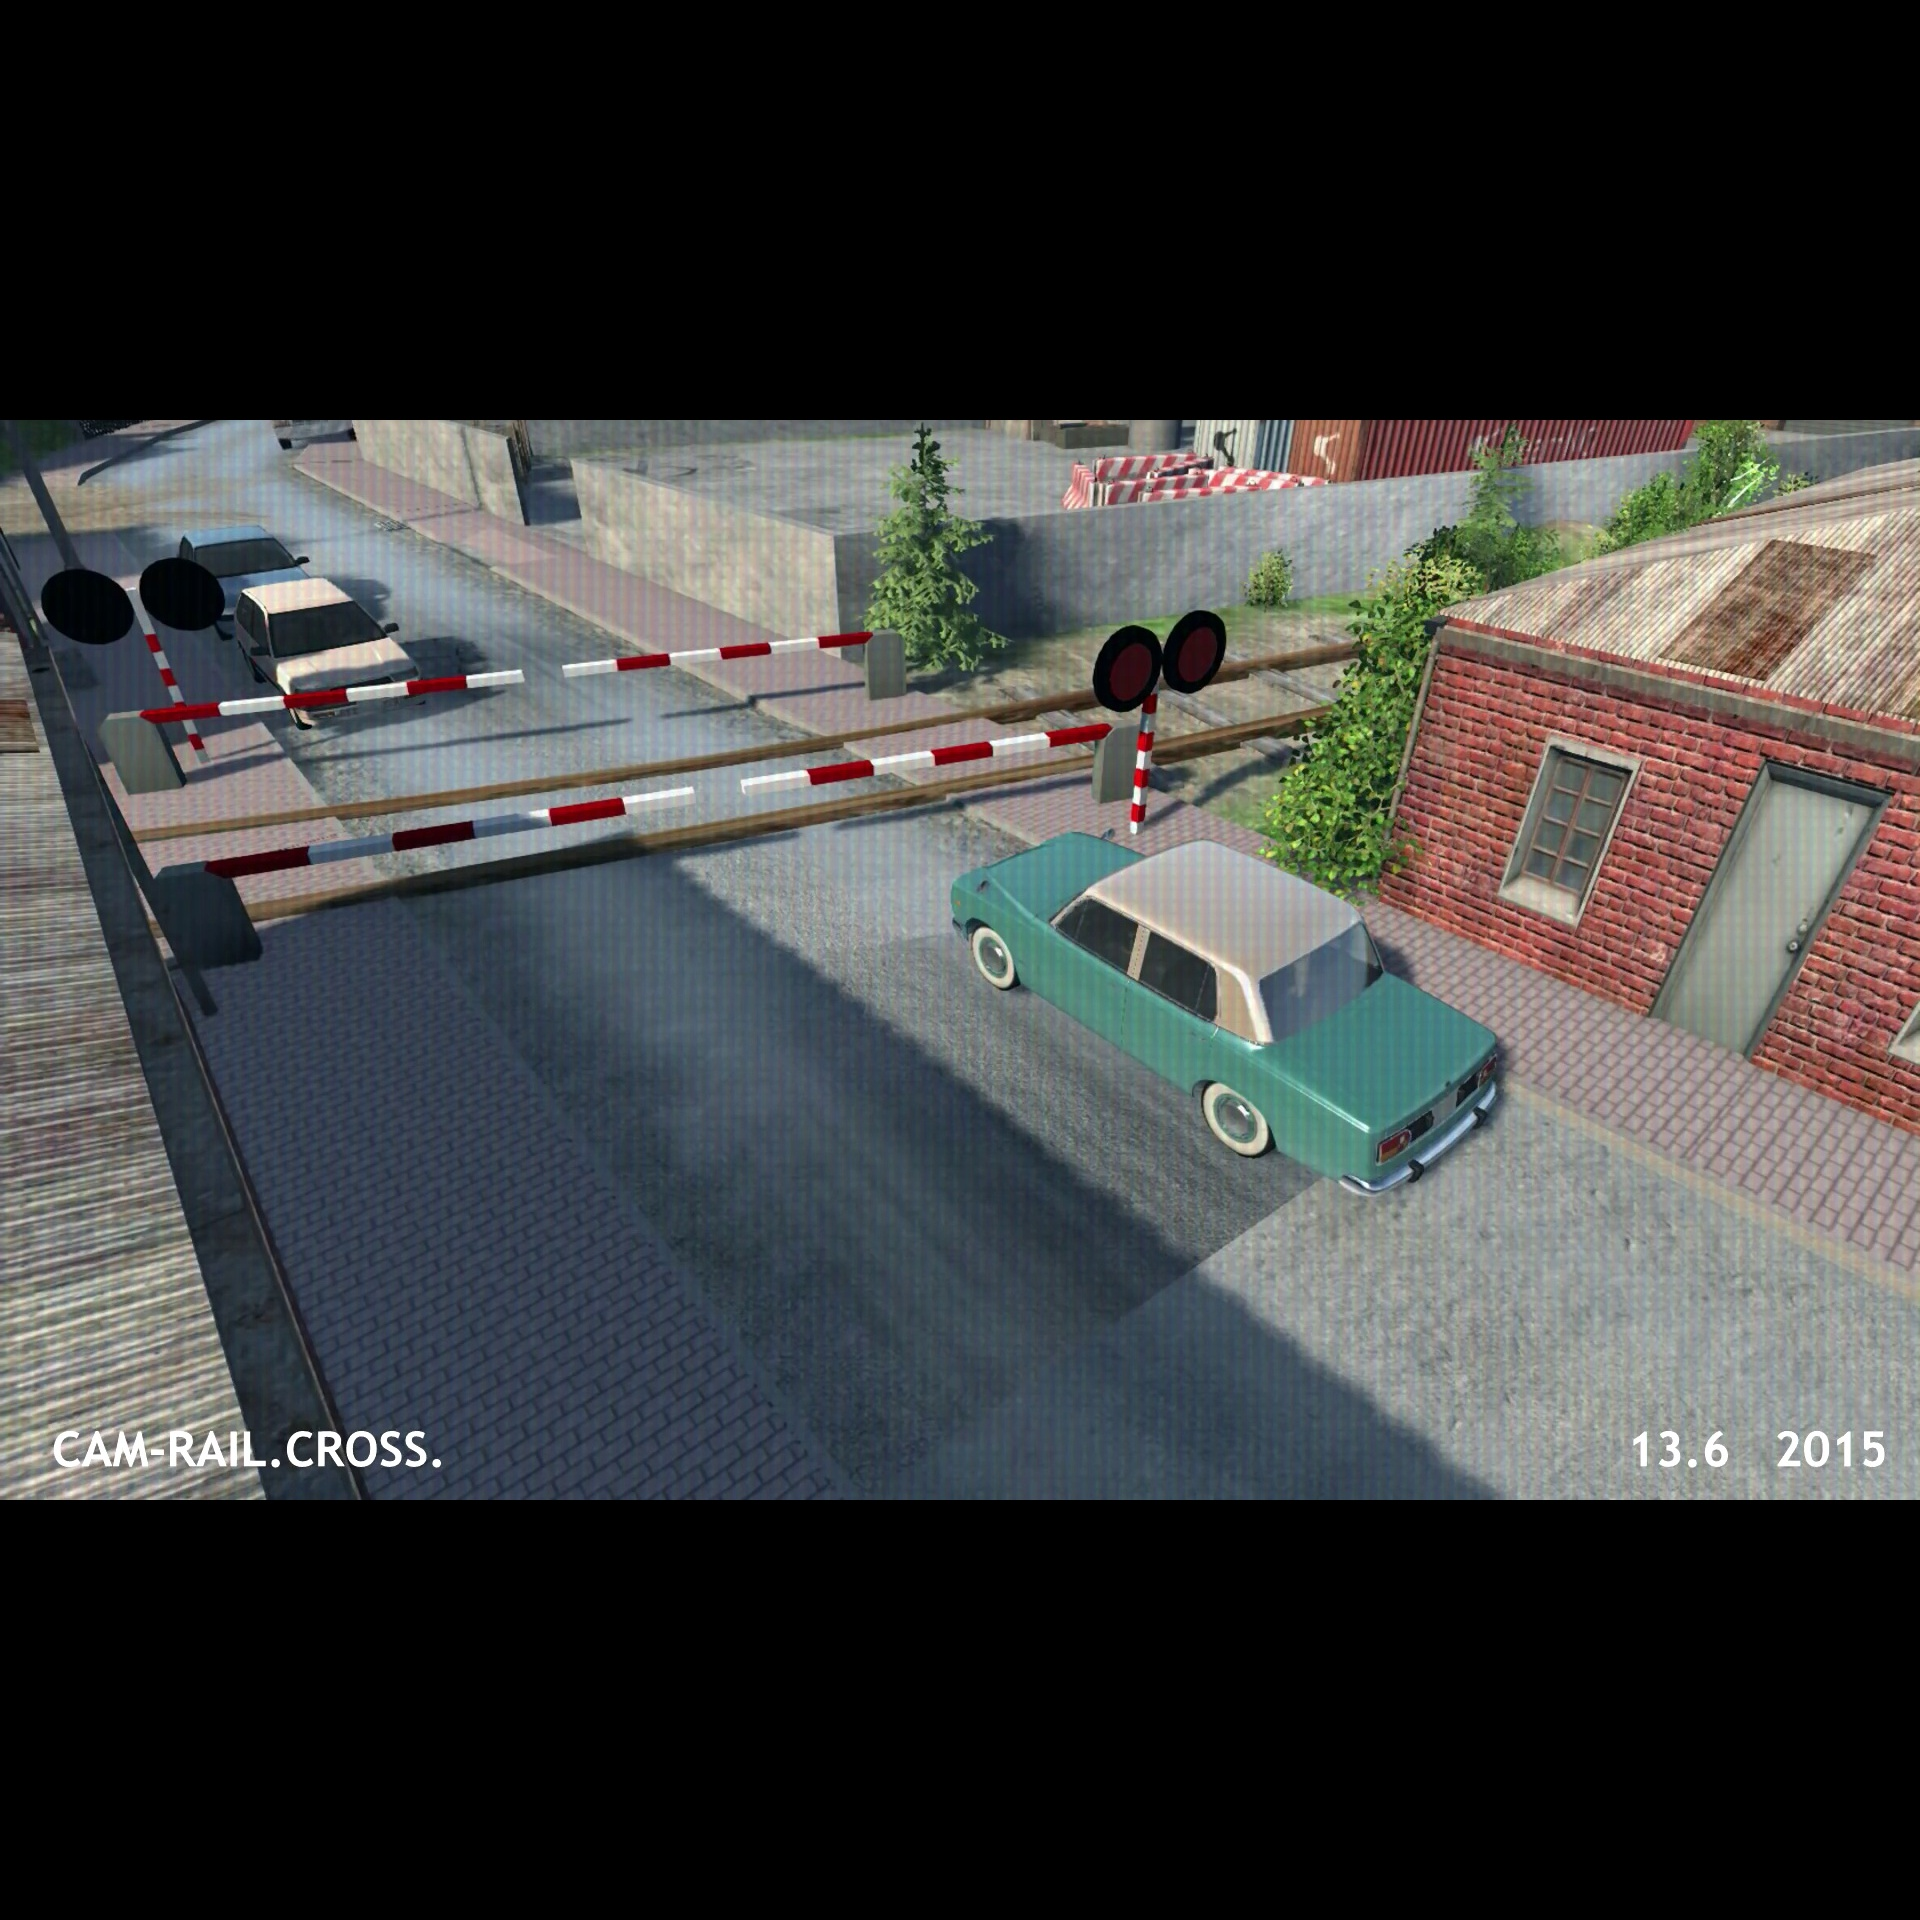vehicle: (942, 802, 1509, 1204), (237, 582, 436, 737), (160, 513, 311, 607)
